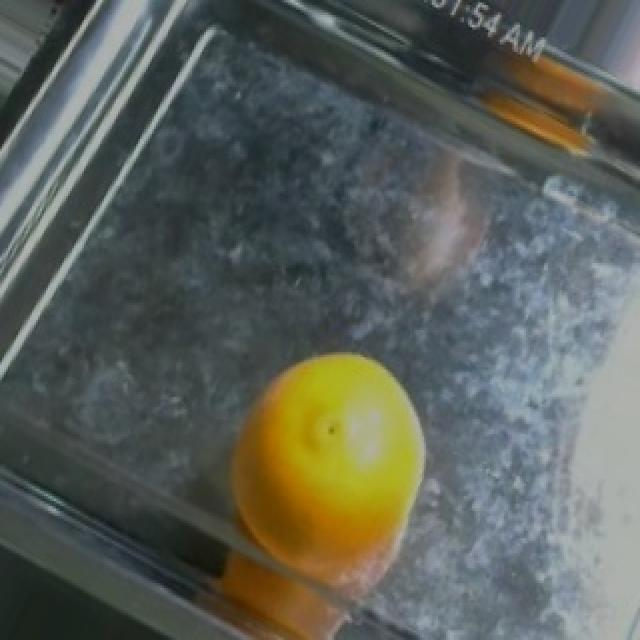Fruit: (210, 340, 448, 618)
